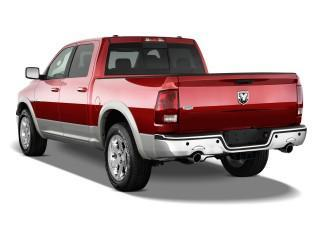ram: (233, 89, 254, 106)
